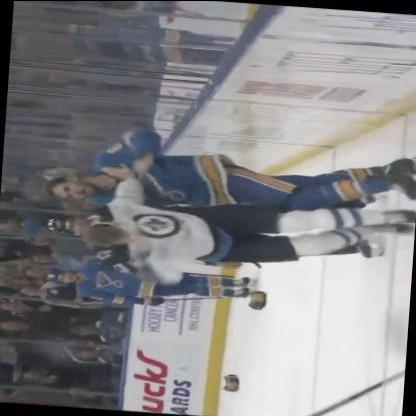non-Voilence: (44, 254, 256, 314)
voilence: (40, 123, 392, 300)
